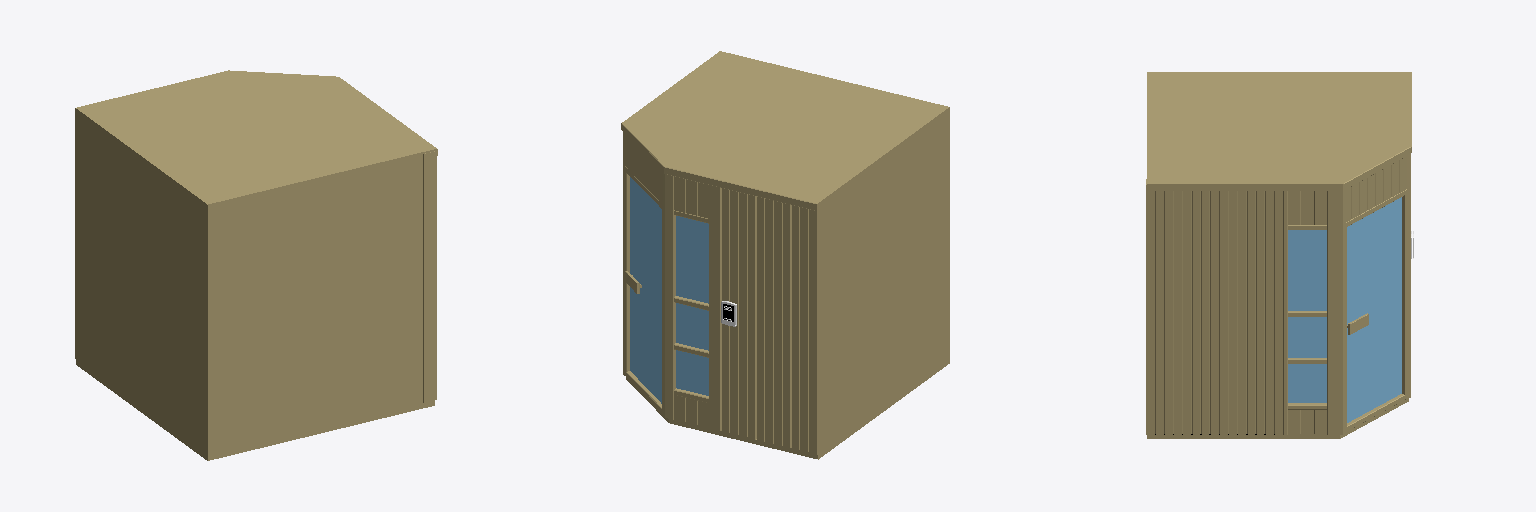
The model's file is Sauna N250210.obj.
3 views of the same model, side by side, from view 1: azimuth 30°, elevation 25°; view 2: azimuth 150°, elevation 25°; view 3: azimuth 270°, elevation 25° (orthographic).
Parts seen in each view (by area): view 1: Box91; view 2: Box91; view 3: Box91.
Part boxes in pixels (x1,y1,x2,y2): Box91: (75,70,437,460); Box91: (621,51,949,459); Box91: (1146,72,1413,438).
Size of the model in its own units: 87.54 by 93.26 by 88.25.